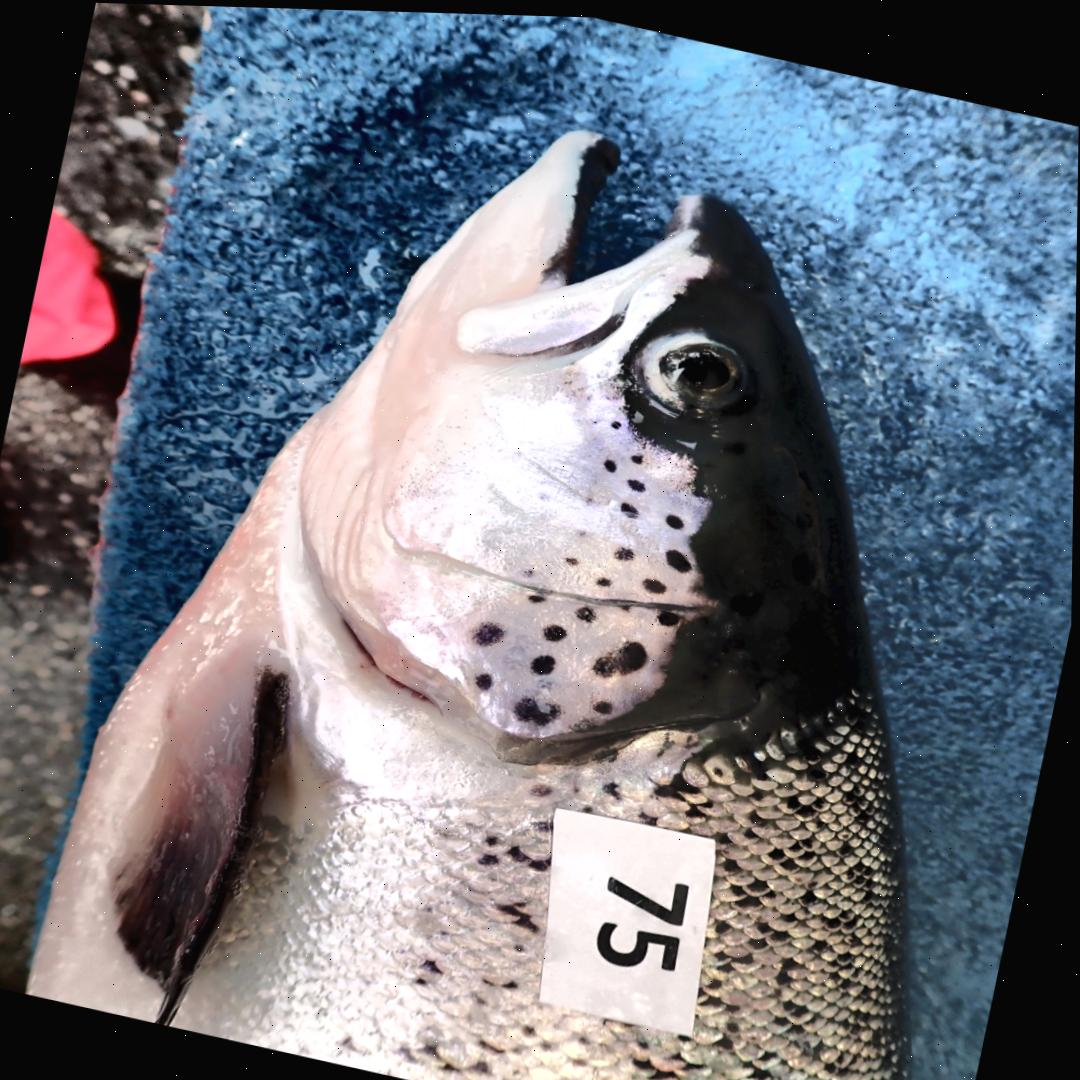spot: (594, 637, 650, 674), (515, 694, 562, 723), (473, 619, 505, 643), (666, 545, 694, 568), (529, 651, 557, 672), (657, 606, 683, 623), (545, 622, 568, 638), (644, 575, 666, 590), (576, 603, 596, 619), (477, 669, 493, 688), (621, 498, 639, 514), (666, 510, 685, 525), (613, 543, 634, 556), (594, 697, 613, 711), (627, 474, 646, 487), (603, 455, 617, 469), (530, 592, 546, 601), (631, 450, 644, 461), (596, 574, 612, 582), (610, 417, 622, 426), (566, 554, 579, 562), (618, 601, 633, 607), (523, 566, 534, 573)
